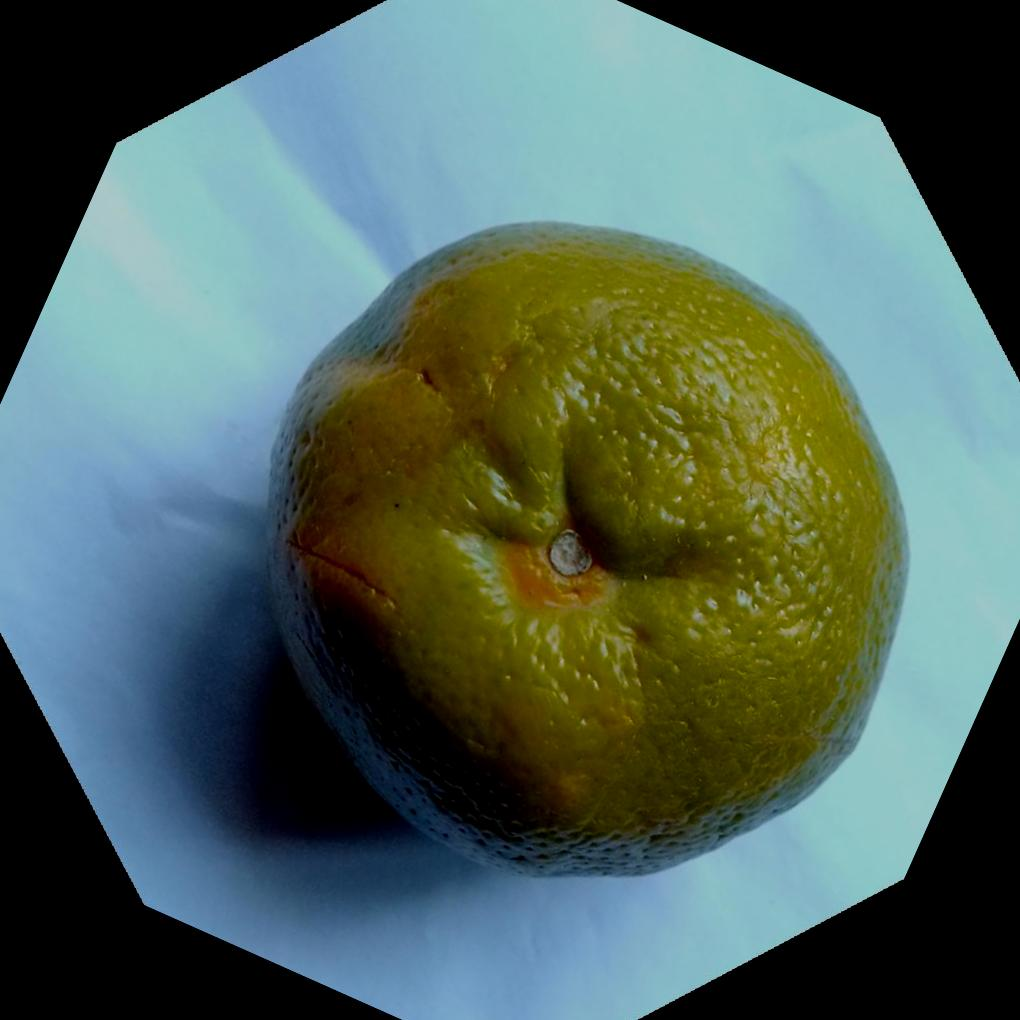FreshGuava: (266, 217, 911, 877)
